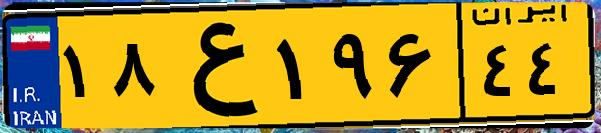1: (270, 28, 330, 110), (57, 26, 110, 100)
4: (475, 38, 525, 113), (525, 38, 570, 115)
6: (385, 28, 445, 110)
8: (110, 28, 158, 98)
9: (330, 28, 385, 110)
ع: (158, 12, 270, 120)
